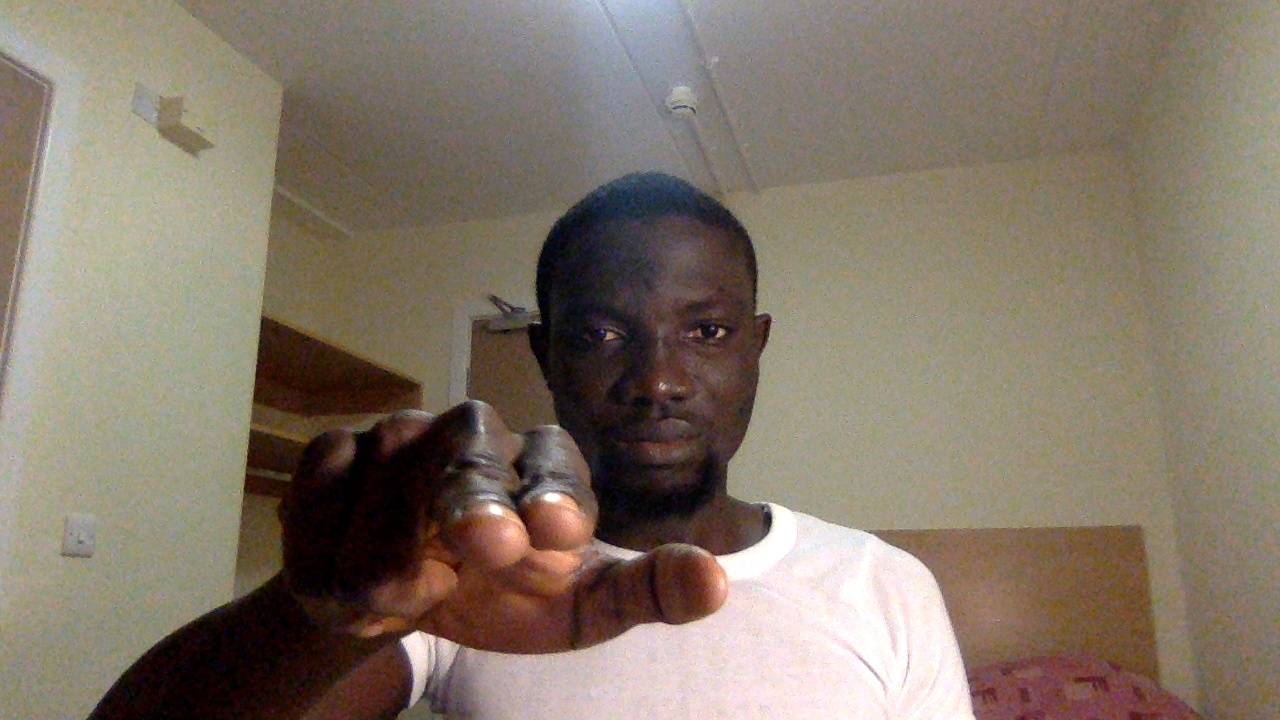No: (278, 389, 744, 720)
